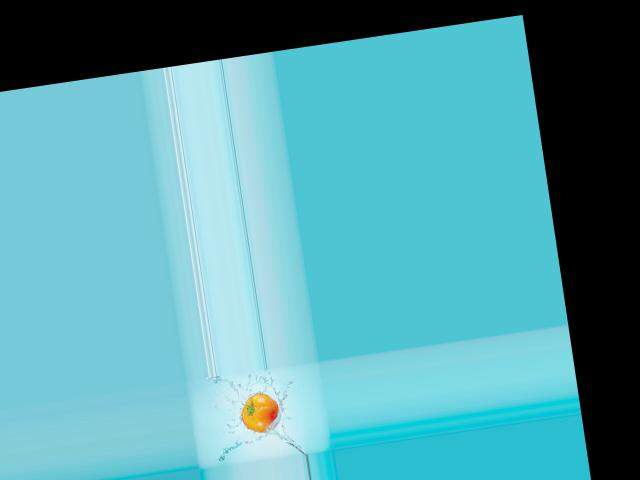tomato: (238, 390, 282, 435)
